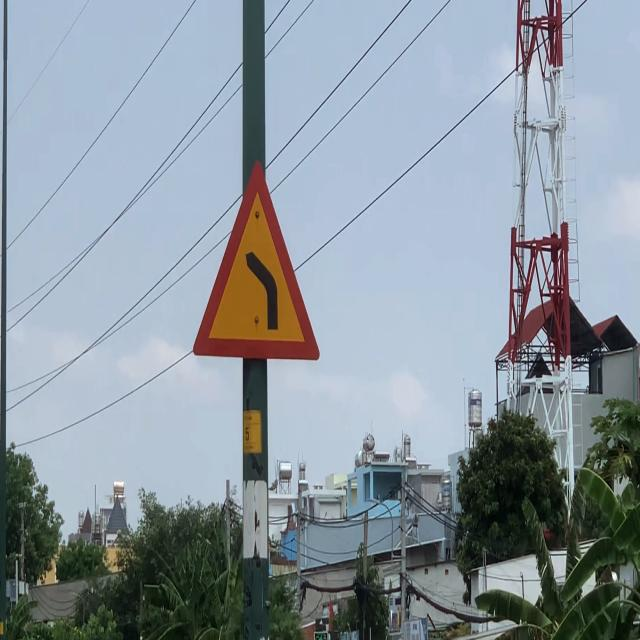Nguy hiem: (181, 144, 328, 377)
